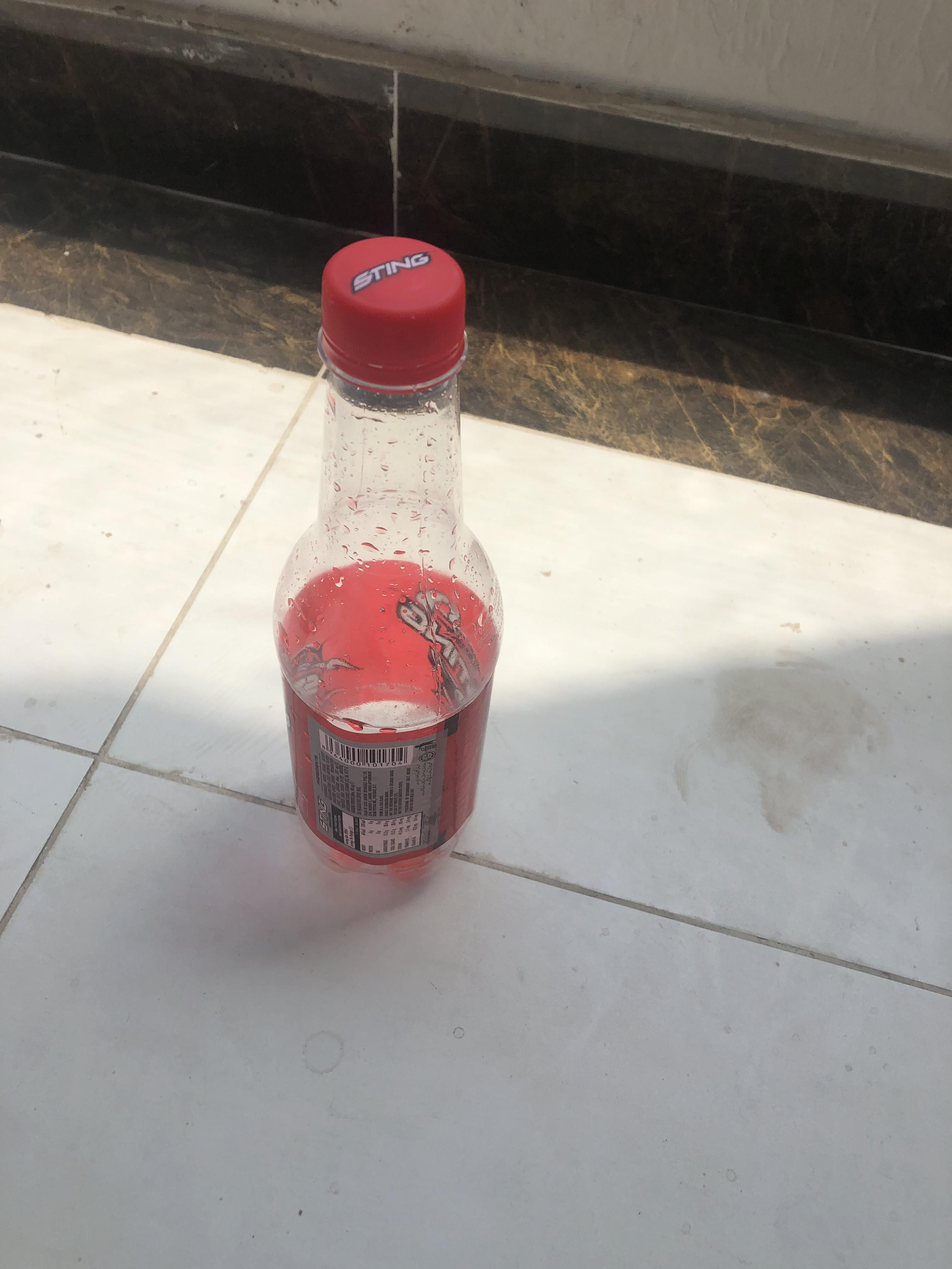bottle-plastic: (278, 225, 503, 892)
